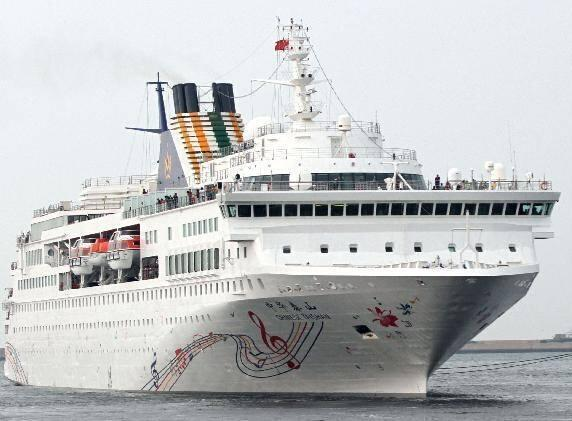youlun: (3, 18, 559, 394)
